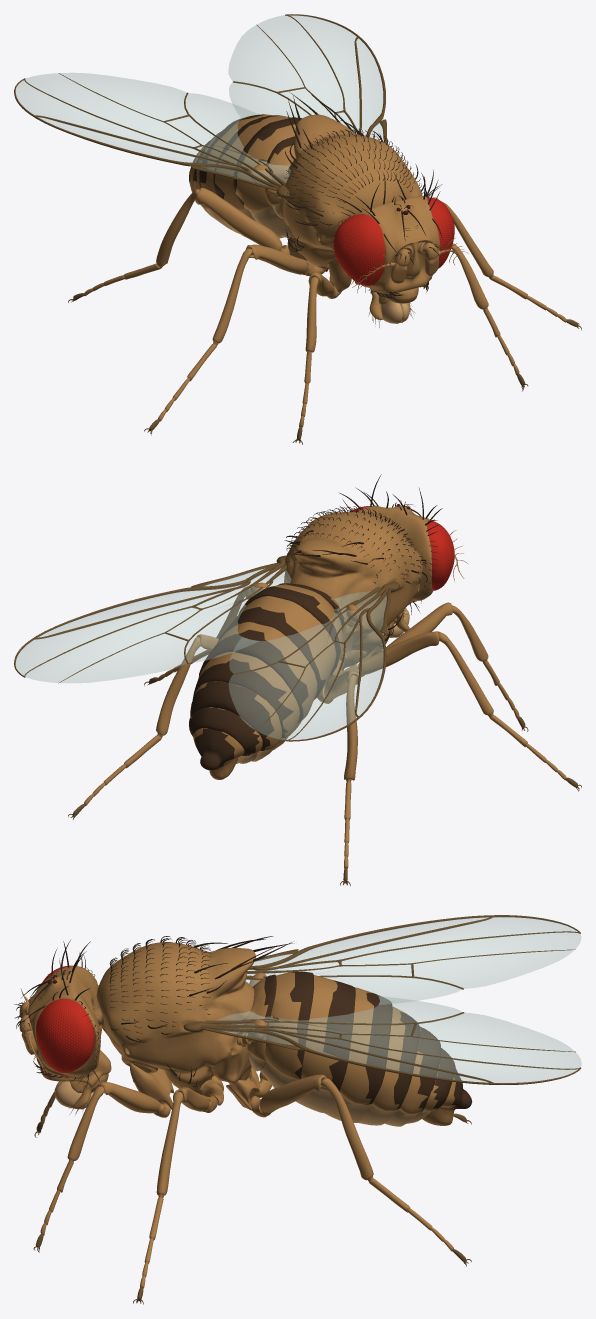
The model's file is fly-high.glb.
The picture shows the model from 3 angles, top to bottom: view 1: azimuth 30°, elevation 25°; view 2: azimuth 150°, elevation 25°; view 3: azimuth 270°, elevation 25°; orthographic projection. The views are drawn at different scales.
Visible parts, largest first — view 1: wing_right__membrane, wing_left__membrane, thorax__body, head__body, head__red, wing_right__brown, thorax__black, abdomen_2__body, femur_T3_right__body, abdomen_3__body, wing_left__brown, femur_T2_right__body (+12 smaller); view 2: wing_right__membrane, wing_left__membrane, thorax__body, abdomen_4__body, abdomen_3__body, abdomen_5__body, wing_left__brown, abdomen_6__body, wing_right__brown, head__body, abdomen_2__body, abdomen_8__body (+11 smaller); view 3: thorax__body, wing_left__membrane, wing_right__membrane, wing_left__brown, abdomen_3__body, abdomen_4__body, wing_right__brown, head__red, abdomen_2__body, head__body, abdomen_5__body, thorax__black (+17 smaller).
Part boxes in pixels (bbox=[...]): wing_right__membrane: bbox=[16, 73, 290, 185]; wing_left__membrane: bbox=[228, 15, 383, 141]; thorax__body: bbox=[279, 114, 422, 266]; head__body: bbox=[344, 196, 440, 293]; head__red: bbox=[333, 197, 454, 285]; wing_right__brown: bbox=[14, 73, 289, 197]; thorax__black: bbox=[283, 92, 426, 251]; abdomen_2__body: bbox=[233, 117, 301, 211]; femur_T3_right__body: bbox=[196, 187, 289, 254]; abdomen_3__body: bbox=[213, 115, 290, 210]; wing_left__brown: bbox=[233, 14, 388, 144]; femur_T2_right__body: bbox=[246, 244, 324, 275]; wing_right__membrane: bbox=[229, 590, 386, 739]; wing_left__membrane: bbox=[16, 567, 291, 682]; thorax__body: bbox=[284, 511, 422, 660]; abdomen_4__body: bbox=[199, 622, 317, 722]; abdomen_3__body: bbox=[217, 596, 336, 699]; abdomen_5__body: bbox=[192, 652, 299, 738]; wing_left__brown: bbox=[14, 555, 286, 683]; abdomen_6__body: bbox=[190, 681, 282, 760]; wing_right__brown: bbox=[233, 581, 399, 741]; head__body: bbox=[358, 505, 433, 601]; abdomen_2__body: bbox=[239, 584, 343, 676]; abdomen_8__body: bbox=[193, 728, 244, 779]; thorax__body: bbox=[93, 942, 255, 1092]; wing_left__membrane: bbox=[216, 996, 581, 1082]; wing_right__membrane: bbox=[246, 917, 581, 1004]; wing_left__brown: bbox=[183, 1012, 581, 1084]; abdomen_3__body: bbox=[301, 975, 355, 1091]; abdomen_4__body: bbox=[339, 987, 392, 1104]; wing_right__brown: bbox=[246, 915, 580, 989]; head__red: bbox=[36, 965, 94, 1072]; abdomen_2__body: bbox=[265, 971, 314, 1079]; head__body: bbox=[25, 966, 101, 1077]; abdomen_5__body: bbox=[372, 1006, 419, 1111]; thorax__black: bbox=[109, 936, 294, 1087].
Bounding box in the file's own units: 1.18 × 0.6186 × 1.26.
